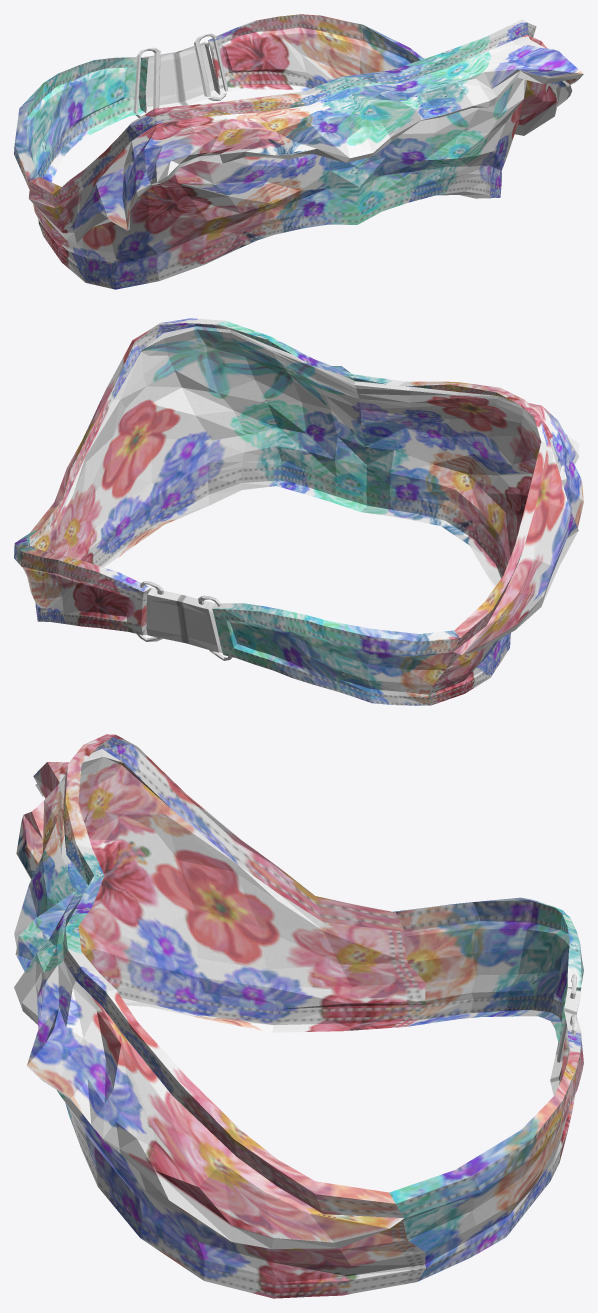
Rendered from mhw_punkduck_frill_bikini_top.glb.
3 renders of one model, top to bottom at view 1: azimuth 30°, elevation 25°; view 2: azimuth 150°, elevation 25°; view 3: azimuth 270°, elevation 25°, orthographic. The views are drawn at different scales.
Parts seen in each view (by area): view 1: mhw_punkduck_frill_bikini_top; view 2: mhw_punkduck_frill_bikini_top; view 3: mhw_punkduck_frill_bikini_top.
Boxes of the visible parts, x1,y1,x2,y2 form: mhw_punkduck_frill_bikini_top: [14, 14, 583, 289]; mhw_punkduck_frill_bikini_top: [14, 318, 583, 705]; mhw_punkduck_frill_bikini_top: [14, 734, 583, 1298].
Size of the model in its own units: 0.3475 by 0.1547 by 0.259.
Materials: 1 (1 with a texture image).
